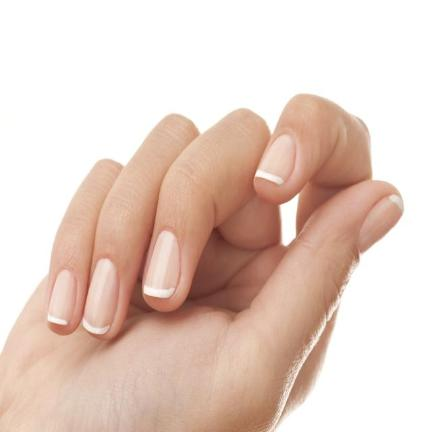Nail: (82, 258, 119, 334), (359, 194, 405, 253), (143, 230, 180, 298), (255, 134, 296, 185), (47, 269, 76, 325)
